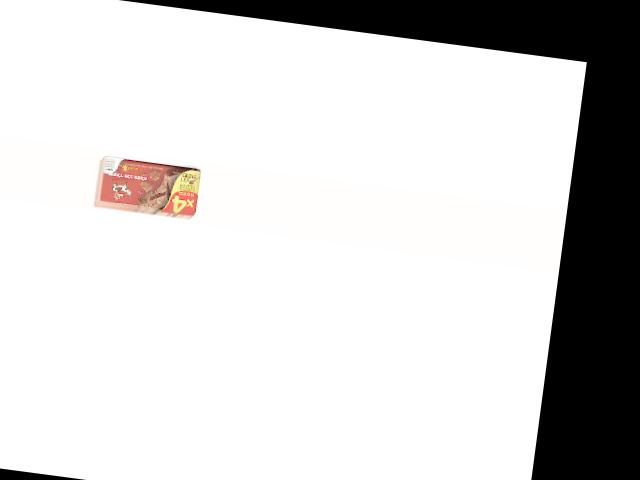chocolate: (95, 153, 203, 219)
